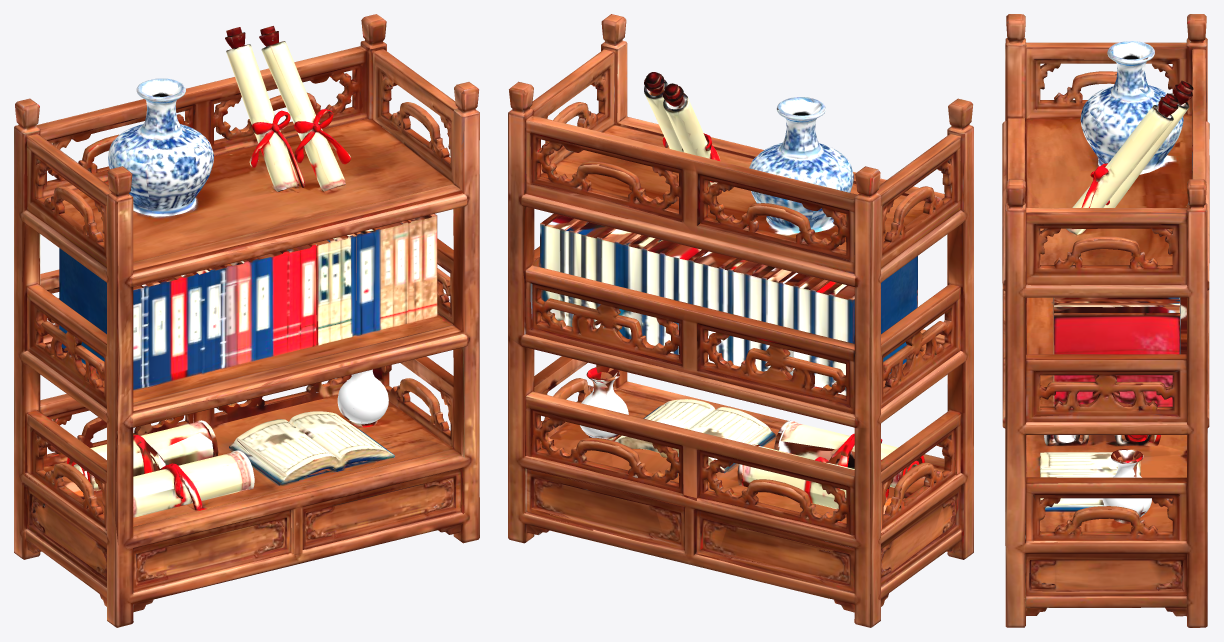
Rendered from st_shelf.glb.
3 views of the same model, side by side, from view 1: azimuth 30°, elevation 25°; view 2: azimuth 150°, elevation 25°; view 3: azimuth 270°, elevation 25° (orthographic). The views are drawn at different scales.
Parts seen in each view (by area): view 1: st_shelf; view 2: st_shelf; view 3: st_shelf.
Boxes of the visible parts, bbox=[...] form: st_shelf: bbox=[14, 14, 479, 627]; st_shelf: bbox=[508, 14, 973, 627]; st_shelf: bbox=[1002, 14, 1209, 627].
Bounding box in the file's own units: 1.89 × 2.4 × 0.9524.
1 material, 1 textured.
